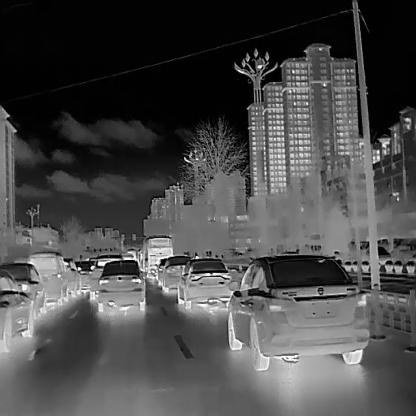bus: (142, 234, 174, 277)
car: (224, 251, 369, 371), (0, 266, 39, 352), (176, 257, 234, 309), (94, 258, 146, 312), (1, 261, 47, 317), (27, 250, 68, 304), (88, 253, 125, 300), (161, 254, 190, 294), (61, 254, 81, 296), (72, 257, 94, 291), (154, 257, 168, 284)
